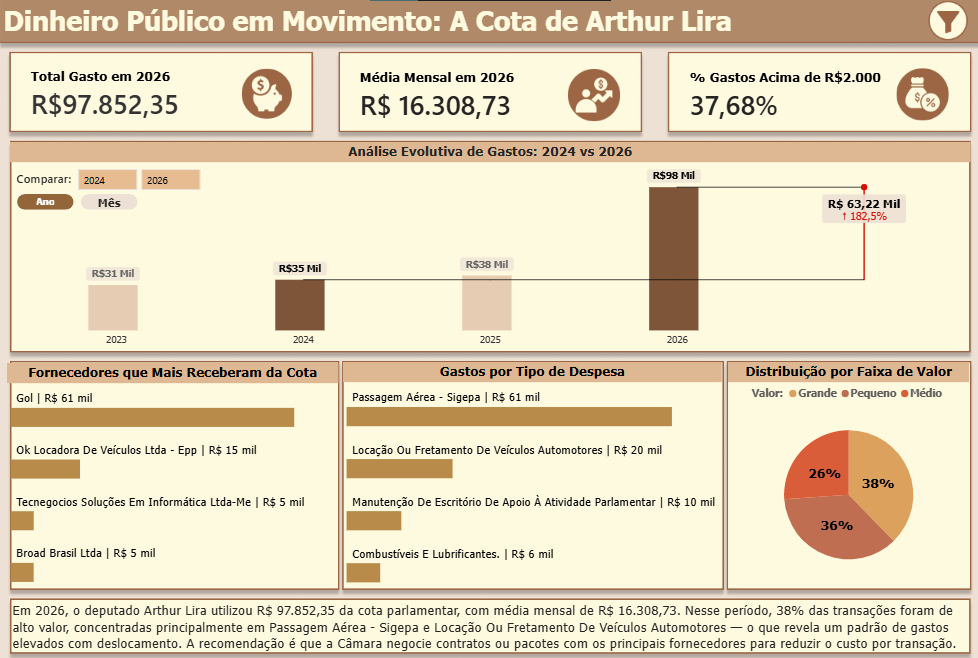

This screenshot's page, from the dashboard's own definition file:
{"tool":"powerbi","page":{"name":"Página 1","canvas":[1366,920],"ordinal":0},"visuals":[{"type":"cardVisual","fields":{"Data":["Metricas.% Gastos Grandes"]},"box":[932.9,77.9,419.3,107.9],"z":0,"group":"g3"},{"type":"lineClusteredColumnComboChart","fields":{"Category":["dCalendario.AnoVazioGrafico"],"Y2":["Metricas.Data Min Linha","Metricas.Data Max Linha","Metricas.Rotulo Barra Positivo","Metricas.Rotulo Barra Negativo"],"Y":["Metricas.Total Gasto"]},"box":[14.7,200.2,1339.1,292.3],"z":0,"group":"g2"},{"type":"clusteredBarChart","title":"Fornecedores que Mais Receberam da Cota","fields":{"Y":["Metricas.Espaco Vazio","Metricas.Total Gasto"],"Category":["dFornecedores.nomeFornecedor"]},"box":[10.3,505.8,461.8,313.3],"z":0,"group":"g1"},{"type":"textbox","title":"Narrativa","box":[12.5,833.8,1342.5,81.2],"z":0},{"type":"cardVisual","fields":{"Data":["Metricas.Media Mensal"]},"box":[473,78,421,108],"z":1000,"group":"g3"},{"type":"group","id":"g1","title":"Rakings e distribuição","box":[10.3,504,1341.2,315.9],"z":1000},{"type":"pieChart","title":"Distribuição por Faixa de Valor","fields":{"Y":["Metricas.Total Registro"],"Category":["fDespesas.faixaValor"]},"box":[1015,504,336.5,315.9],"z":1000,"group":"g1"},{"type":"cardVisual","fields":{"Data":["metricas.Total Gasto"]},"box":[14,77,422,108.2],"z":2000,"group":"g3"},{"type":"group","id":"g2","title":"Tendências - Ano e Mês","box":[12.7,198.3,1341.2,295],"z":2000},{"type":"clusteredBarChart","title":"Gastos por Tipo de Despesa","fields":{"Y":["Metricas.Espaco Vazio","Metricas.Total Gasto"],"Category":["dTipoDespesa.tipoDespesa"]},"box":[478.5,504,528.2,315.3],"z":2000,"group":"g1"},{"type":"group","id":"g3","title":"Cartões","box":[14,77,1338.1,109],"z":3000},{"type":"textbox","box":[18.4,233.4,88.5,35],"z":3000,"group":"g2"},{"type":"image","box":[1305.7,15,32.1,31.4],"z":5000},{"type":"bookmarkNavigator","box":[24.1,271.2,168.5,22.8],"z":5000,"group":"g2"},{"type":"textbox","box":[0,1.8,1079.4,56.1],"z":6000},{"type":"slicer","title":"Filtro Ano","fields":{"Values":["dAnoSlicer.Ano"]},"box":[96.3,226.5,189.2,40.7],"z":6000,"group":"g2"}]}

Visuals, with their boxes in screenshot pixels (x1, y1, x2, y2), scaled from the page's 1366x920 canvas onto the 978x658 screenshot:
cardVisual - Metricas.% Gastos Grandes: bbox=(668, 56, 968, 133)
lineClusteredColumnComboChart - dCalendario.AnoVazioGrafico x Metricas.Data Min Linha: bbox=(11, 143, 969, 352)
"Fornecedores que Mais Receberam da Cota" clusteredBarChart: bbox=(7, 362, 338, 586)
"Narrativa" textbox: bbox=(9, 596, 970, 654)
cardVisual - Metricas.Media Mensal: bbox=(339, 56, 640, 133)
"Rakings e distribuição" group: bbox=(7, 360, 968, 586)
"Distribuição por Faixa de Valor" pieChart: bbox=(727, 360, 968, 586)
cardVisual - metricas.Total Gasto: bbox=(10, 55, 312, 132)
"Tendências - Ano e Mês" group: bbox=(9, 142, 969, 353)
"Gastos por Tipo de Despesa" clusteredBarChart: bbox=(343, 360, 721, 586)
"Cartões" group: bbox=(10, 55, 968, 133)
textbox: bbox=(13, 167, 77, 192)
image: bbox=(935, 11, 958, 33)
bookmarkNavigator: bbox=(17, 194, 138, 210)
textbox: bbox=(0, 1, 773, 41)
"Filtro Ano" slicer: bbox=(69, 162, 204, 191)
